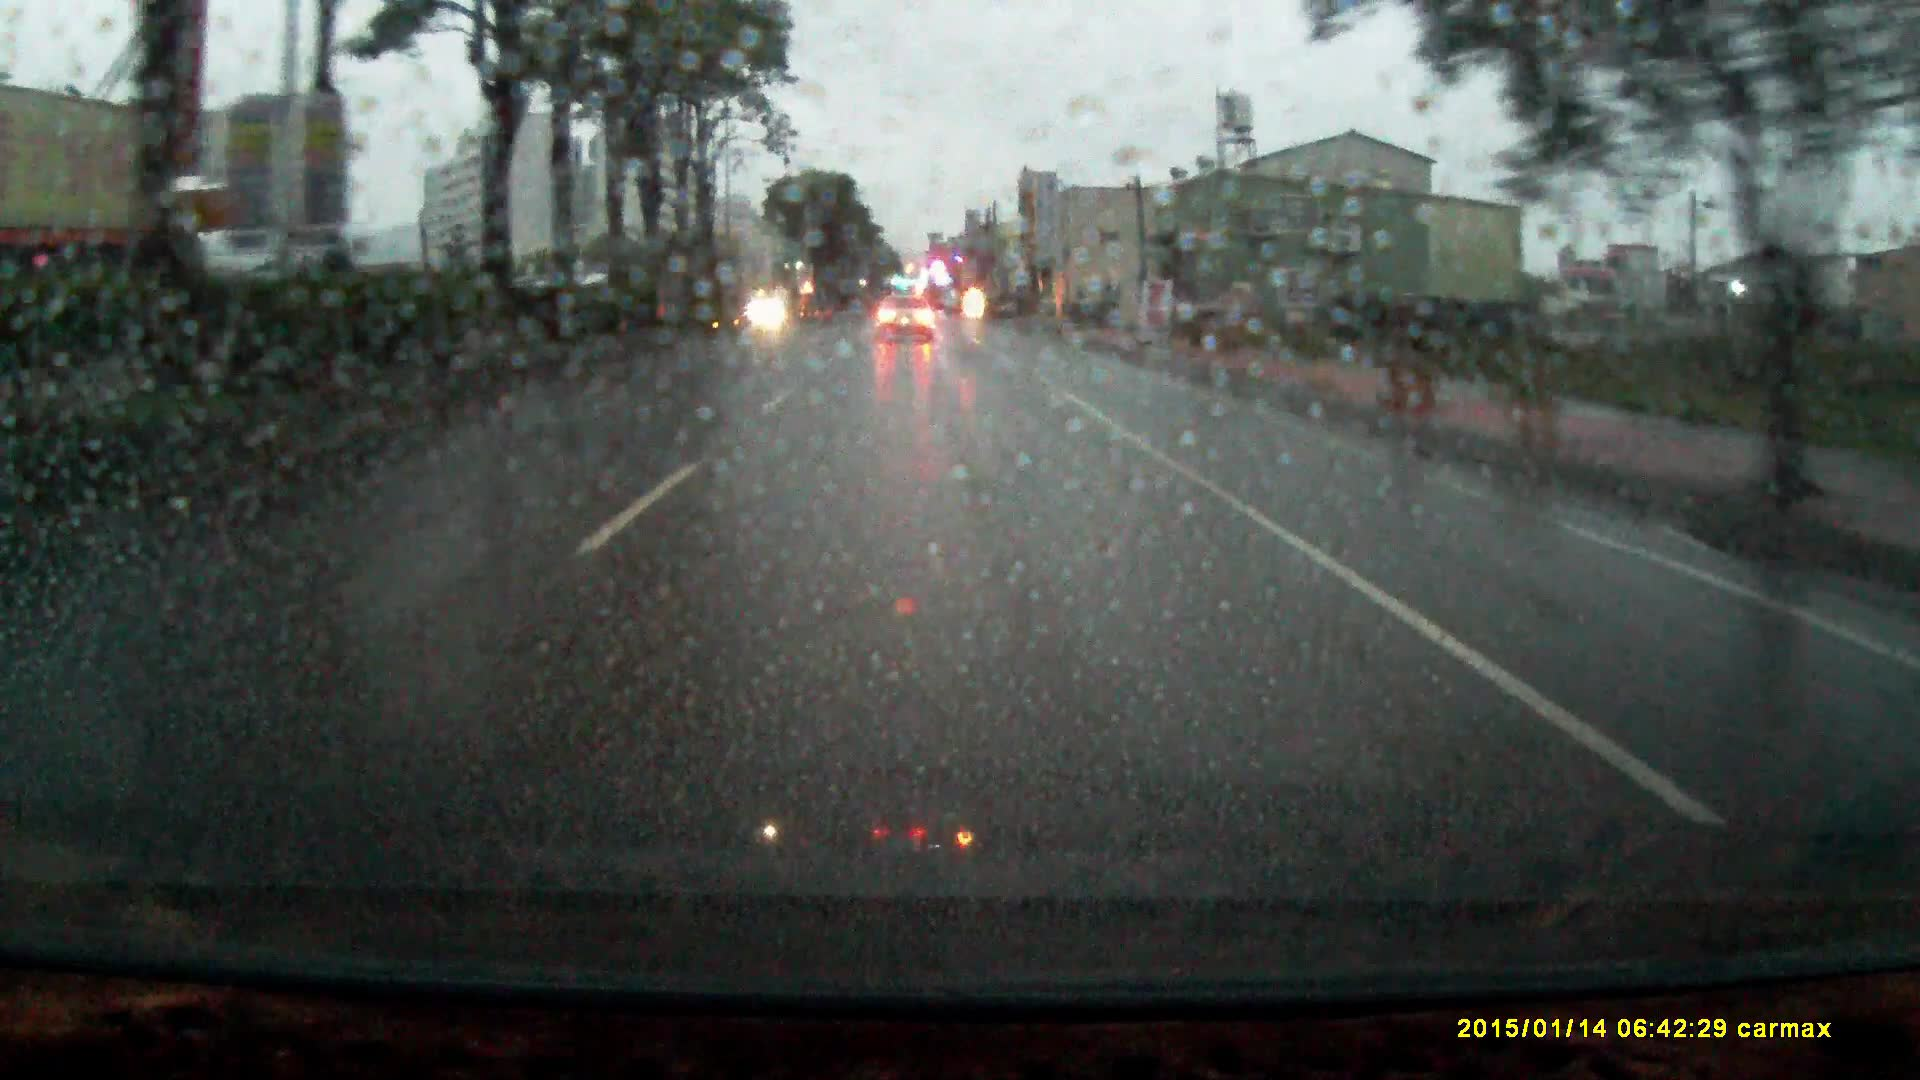vehicle: (876, 295, 935, 345)
